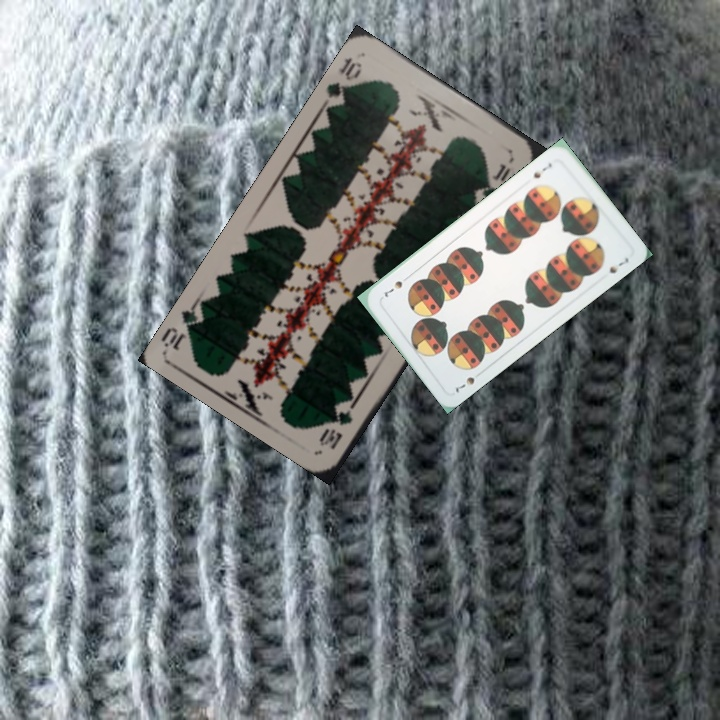G10: (320, 52, 364, 110), (315, 395, 359, 452)
S7: (451, 367, 485, 397), (529, 159, 554, 181)
